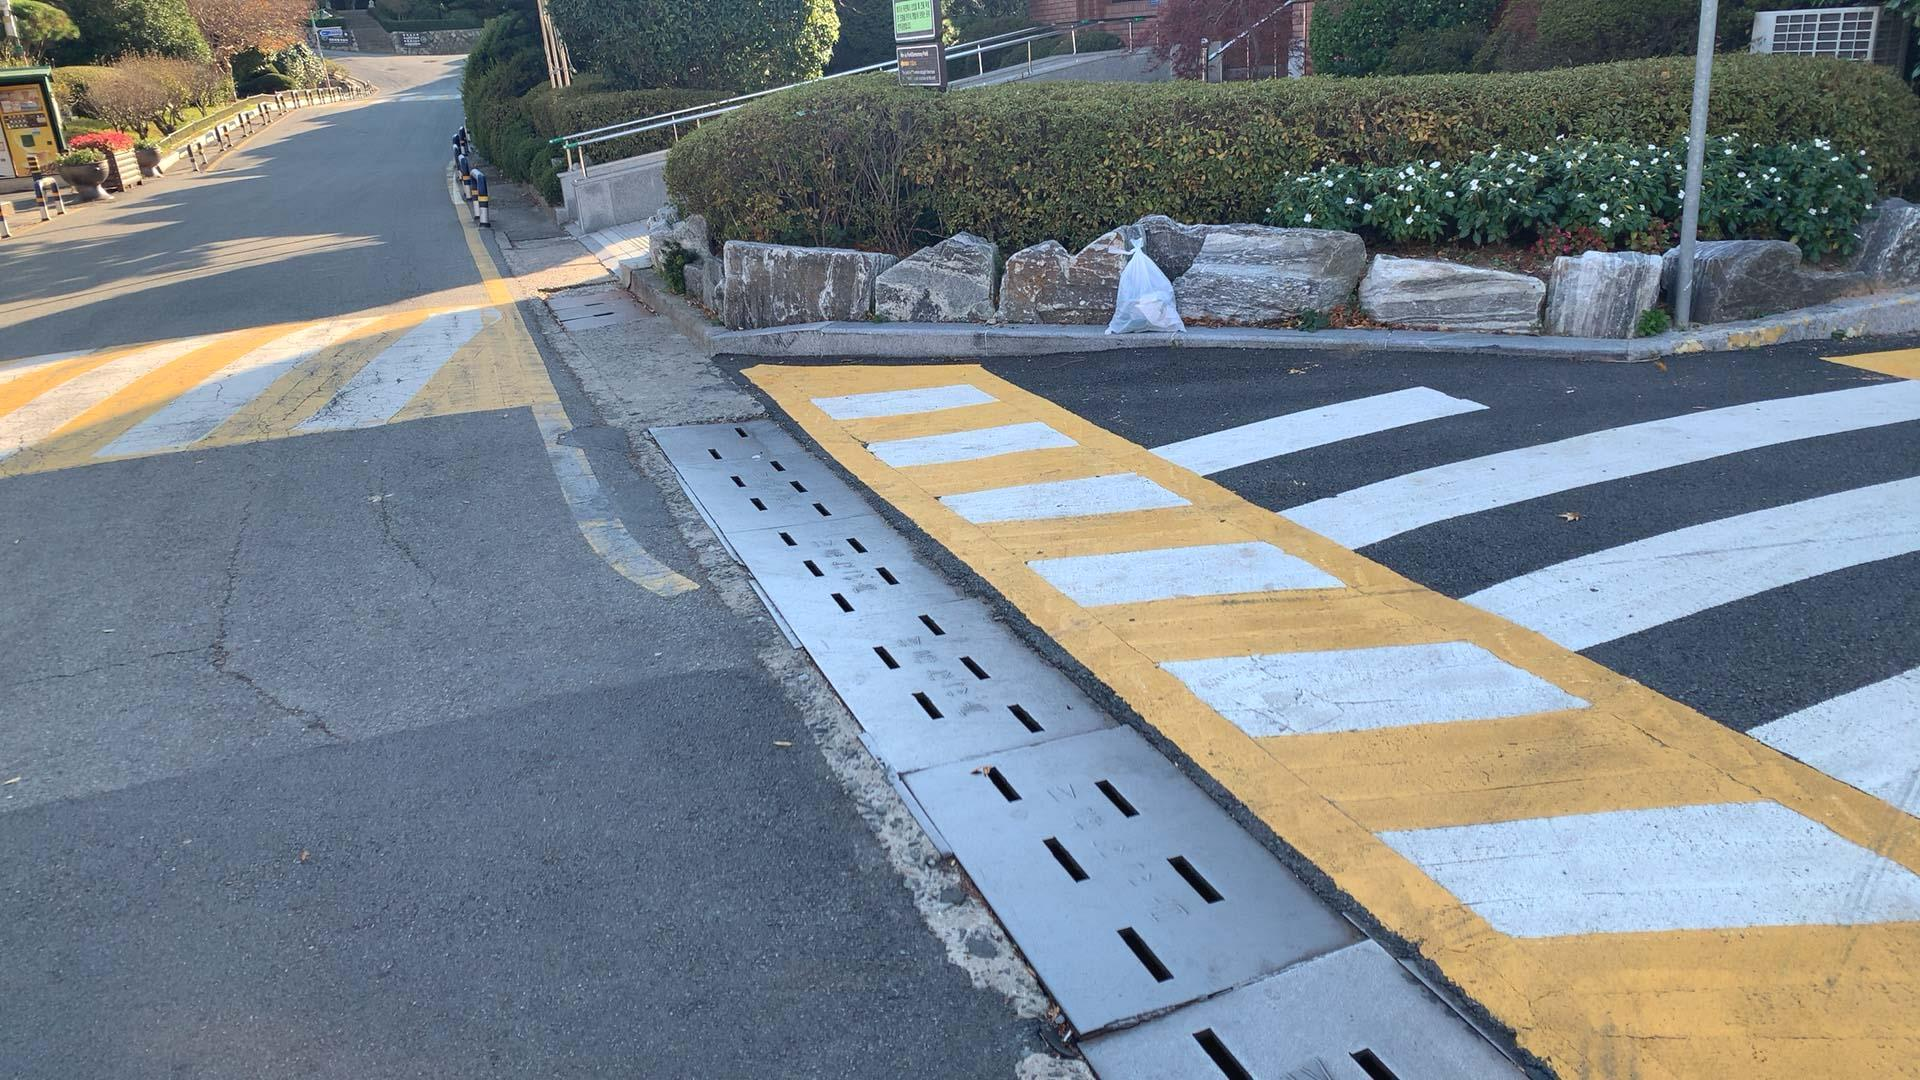white_bag: (1093, 216, 1199, 349)
